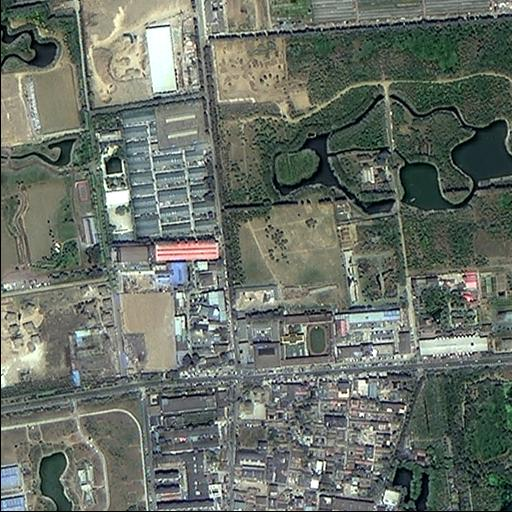school: (277, 311, 335, 367)
